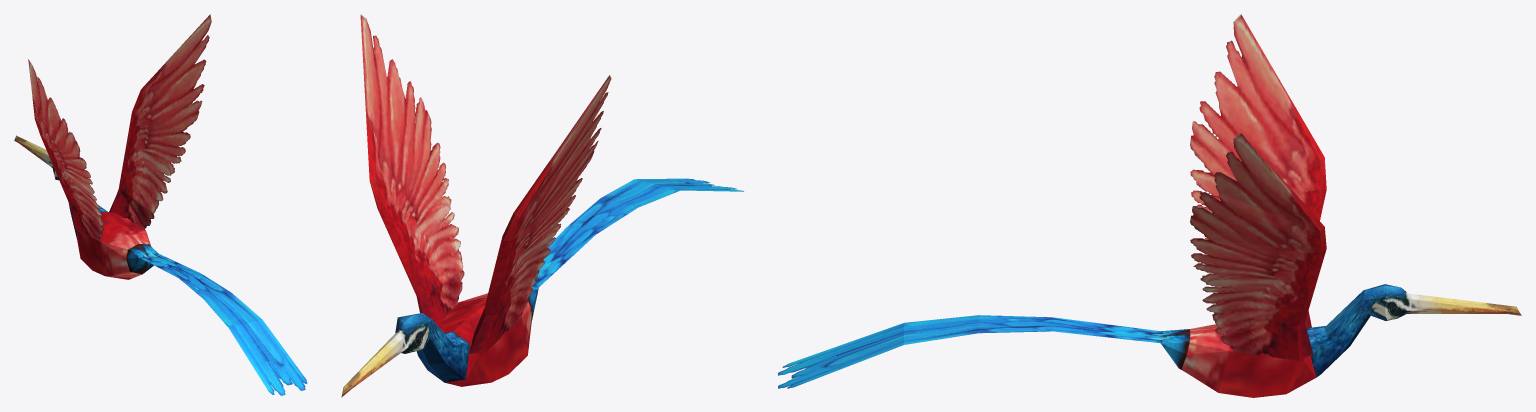
Rendered from Guacamaya.fbx.
3 views of the same model, side by side, from view 1: azimuth 30°, elevation 25°; view 2: azimuth 150°, elevation 25°; view 3: azimuth 270°, elevation 25° (orthographic). The views are drawn at different scales.
Parts seen in each view (by area): view 1: bird; view 2: bird; view 3: bird.
Boxes of the visible parts, x1,y1,x2,y2 form: bird: (14,14,307,395); bird: (341,14,743,397); bird: (778,14,1521,397).
Bounding box in the file's own units: 407 × 514 × 1079.
